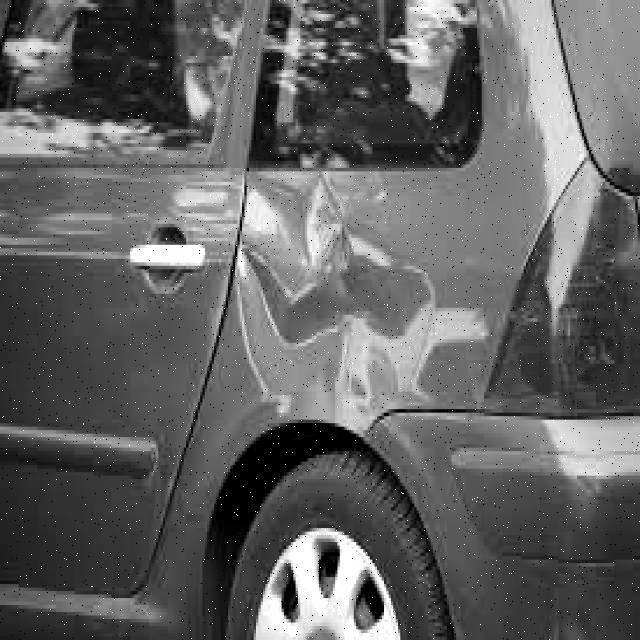quaterpanel-dent: (233, 158, 547, 521)
